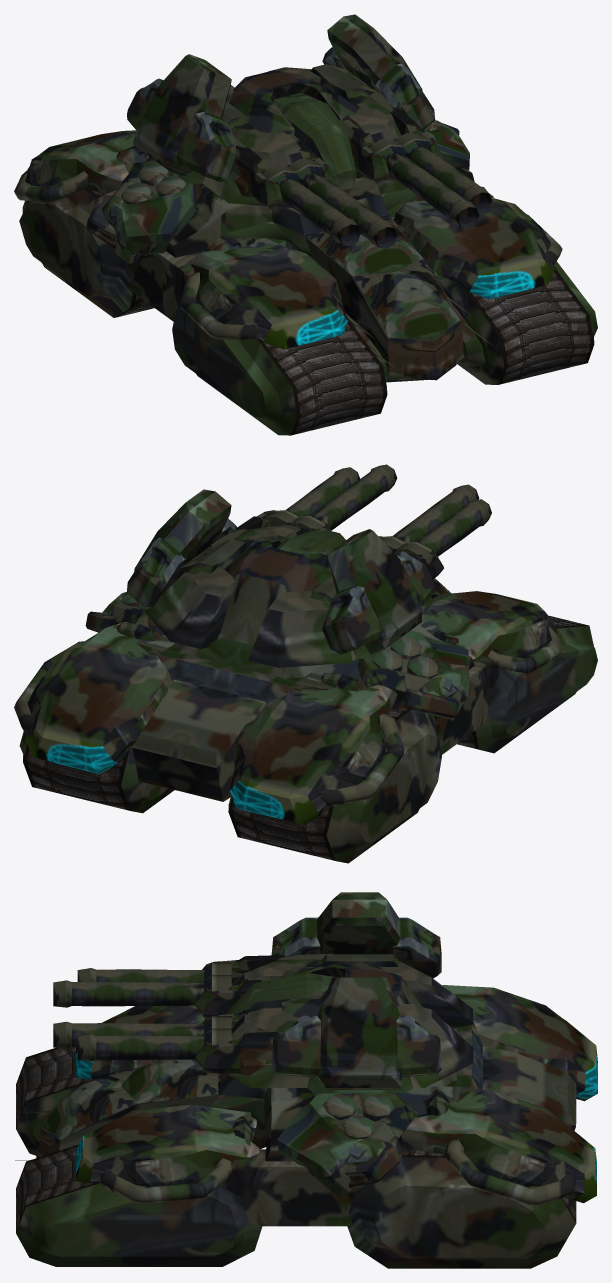
File: umojan-inquisitor-tank.glb
3 renders of one model, top to bottom at view 1: azimuth 30°, elevation 25°; view 2: azimuth 150°, elevation 25°; view 3: azimuth 270°, elevation 25°, orthographic. The views are drawn at different scales.
Bounding box in the file's own units: 2.26 × 1.45 × 2.99.
Materials: 2 (2 with a texture image).
